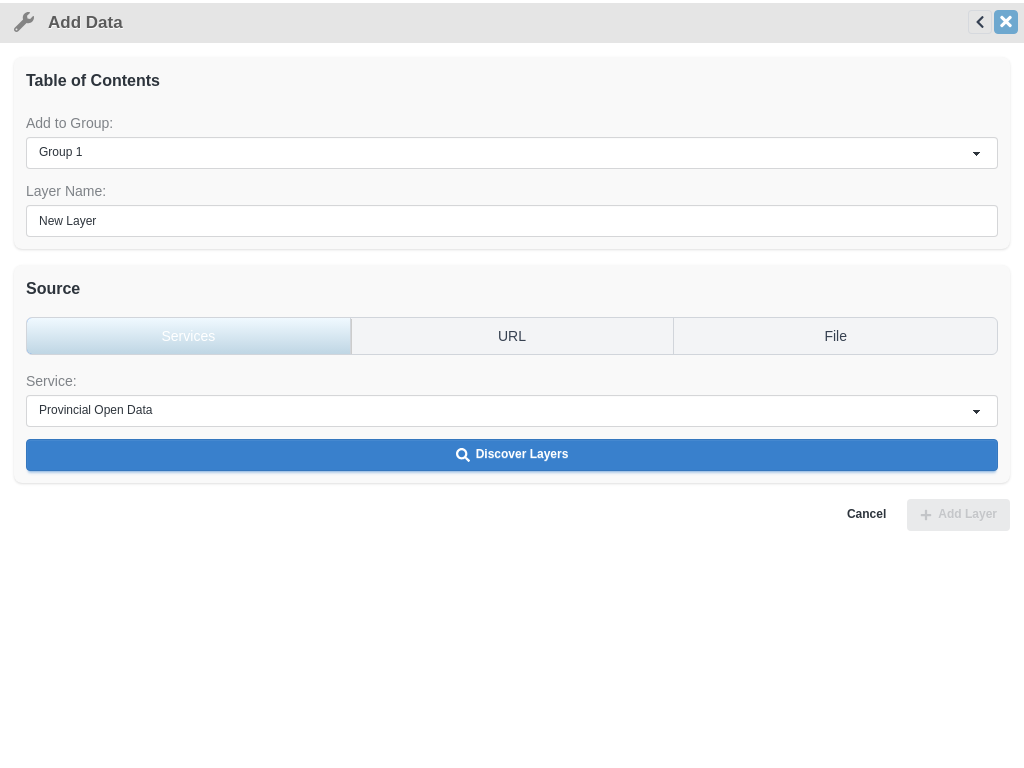
Scenario: AddLayerTool › shows URL type dropdown in URL tab
This screenshot has width=1024, height=768.
Note: Click on URL tab
What coordinates should you click on to do the following:
click the tab "URL"
I would click on:
 (513, 336)
Its box is x1=351 y1=318 x2=674 y2=354.
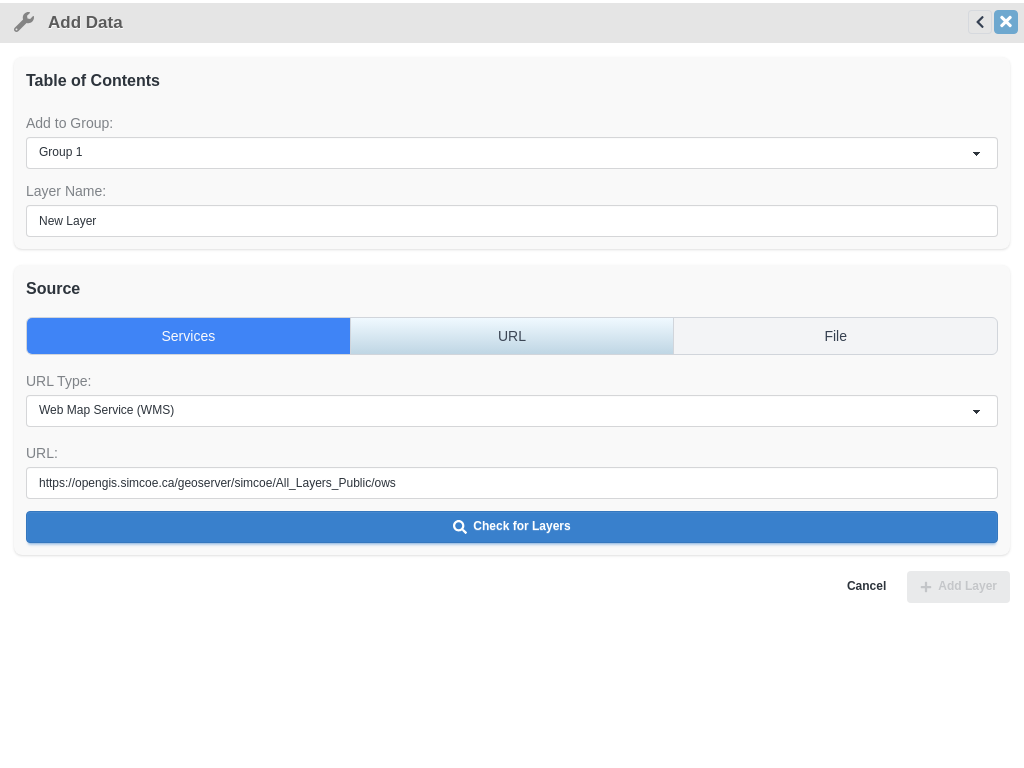
Expected: the text "URL Type:" is shown, x1=26 y1=371 x2=91 y2=391
